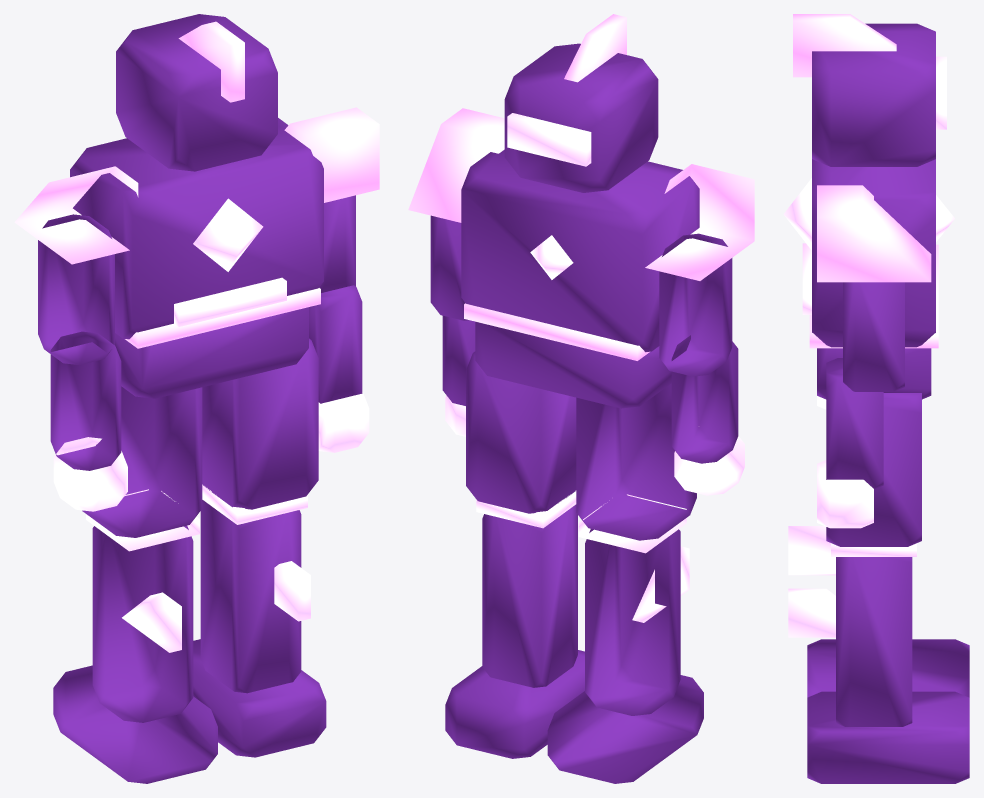
Rendered from CHR_Runner_Nova_Void.glb.
3 views of the same model, side by side, from view 1: azimuth 30°, elevation 25°; view 2: azimuth 150°, elevation 25°; view 3: azimuth 270°, elevation 25° (orthographic). The views are drawn at different scales.
Visible parts, largest first — view 1: chest, head, CHR_Runner_Nova_Void_p2, CHR_Runner_Nova_Void_p3, CHR_Runner_Nova_Void_p4, CHR_Runner_Nova_Void_p5, CHR_Runner_Nova_Void_p1, pelvis, CHR_Runner_Nova_Void_p0, CHR_Runner_Nova_Void_p19, CHR_Runner_Nova_Void_p17, CHR_Runner_Nova_Void_p14 (+13 smaller); view 2: chest, CHR_Runner_Nova_Void_p2, head, CHR_Runner_Nova_Void_p3, CHR_Runner_Nova_Void_p4, CHR_Runner_Nova_Void_p5, CHR_Runner_Nova_Void_p1, pelvis, CHR_Runner_Nova_Void_p0, CHR_Runner_Nova_Void_p17, CHR_Runner_Nova_Void_p15, CHR_Runner_Nova_Void_p19 (+12 smaller); view 3: head, CHR_Runner_Nova_Void_p2, CHR_Runner_Nova_Void_p0, chest, CHR_Runner_Nova_Void_p14, CHR_Runner_Nova_Void_p4, CHR_Runner_Nova_Void_p16, CHR_Runner_Nova_Void_p18, CHR_Runner_Nova_Void_p1, crest, CHR_Runner_Nova_Void_p20, calf_fin_r (+8 smaller).
Part boxes in pixels (box(x1,y1,x2,y2)): chest: box(70, 118, 323, 339); head: box(116, 14, 277, 171); CHR_Runner_Nova_Void_p2: box(200, 500, 301, 693); CHR_Runner_Nova_Void_p3: box(92, 525, 193, 722); CHR_Runner_Nova_Void_p4: box(202, 338, 318, 509); CHR_Runner_Nova_Void_p5: box(82, 386, 202, 537); CHR_Runner_Nova_Void_p1: box(53, 665, 217, 783); pelvis: box(115, 307, 308, 398); CHR_Runner_Nova_Void_p0: box(193, 639, 326, 757); CHR_Runner_Nova_Void_p19: box(50, 331, 121, 470); CHR_Runner_Nova_Void_p17: box(38, 214, 114, 364); CHR_Runner_Nova_Void_p14: box(284, 107, 379, 202); chest: box(461, 149, 699, 352); CHR_Runner_Nova_Void_p2: box(482, 504, 577, 687); head: box(504, 43, 658, 192); CHR_Runner_Nova_Void_p3: box(585, 529, 680, 715); CHR_Runner_Nova_Void_p4: box(466, 351, 576, 513); CHR_Runner_Nova_Void_p5: box(576, 383, 696, 540); CHR_Runner_Nova_Void_p1: box(547, 675, 703, 783); pelvis: box(475, 321, 671, 408); CHR_Runner_Nova_Void_p0: box(445, 650, 584, 758); CHR_Runner_Nova_Void_p17: box(659, 233, 732, 376); CHR_Runner_Nova_Void_p15: box(645, 164, 754, 280); CHR_Runner_Nova_Void_p19: box(671, 335, 738, 463); head: box(812, 23, 935, 166); CHR_Runner_Nova_Void_p2: box(836, 557, 912, 726); CHR_Runner_Nova_Void_p0: box(807, 691, 969, 783); chest: box(812, 159, 935, 347); CHR_Runner_Nova_Void_p14: box(817, 185, 931, 282); CHR_Runner_Nova_Void_p4: box(826, 393, 921, 546); CHR_Runner_Nova_Void_p16: box(843, 282, 904, 391); CHR_Runner_Nova_Void_p18: box(826, 358, 883, 489); CHR_Runner_Nova_Void_p1: box(807, 639, 969, 697); crest: box(793, 14, 896, 77); CHR_Runner_Nova_Void_p20: box(817, 460, 873, 528); calf_fin_r: box(788, 588, 835, 637).
Bounding box in the file's own units: 0.74 × 1.66 × 0.39.
